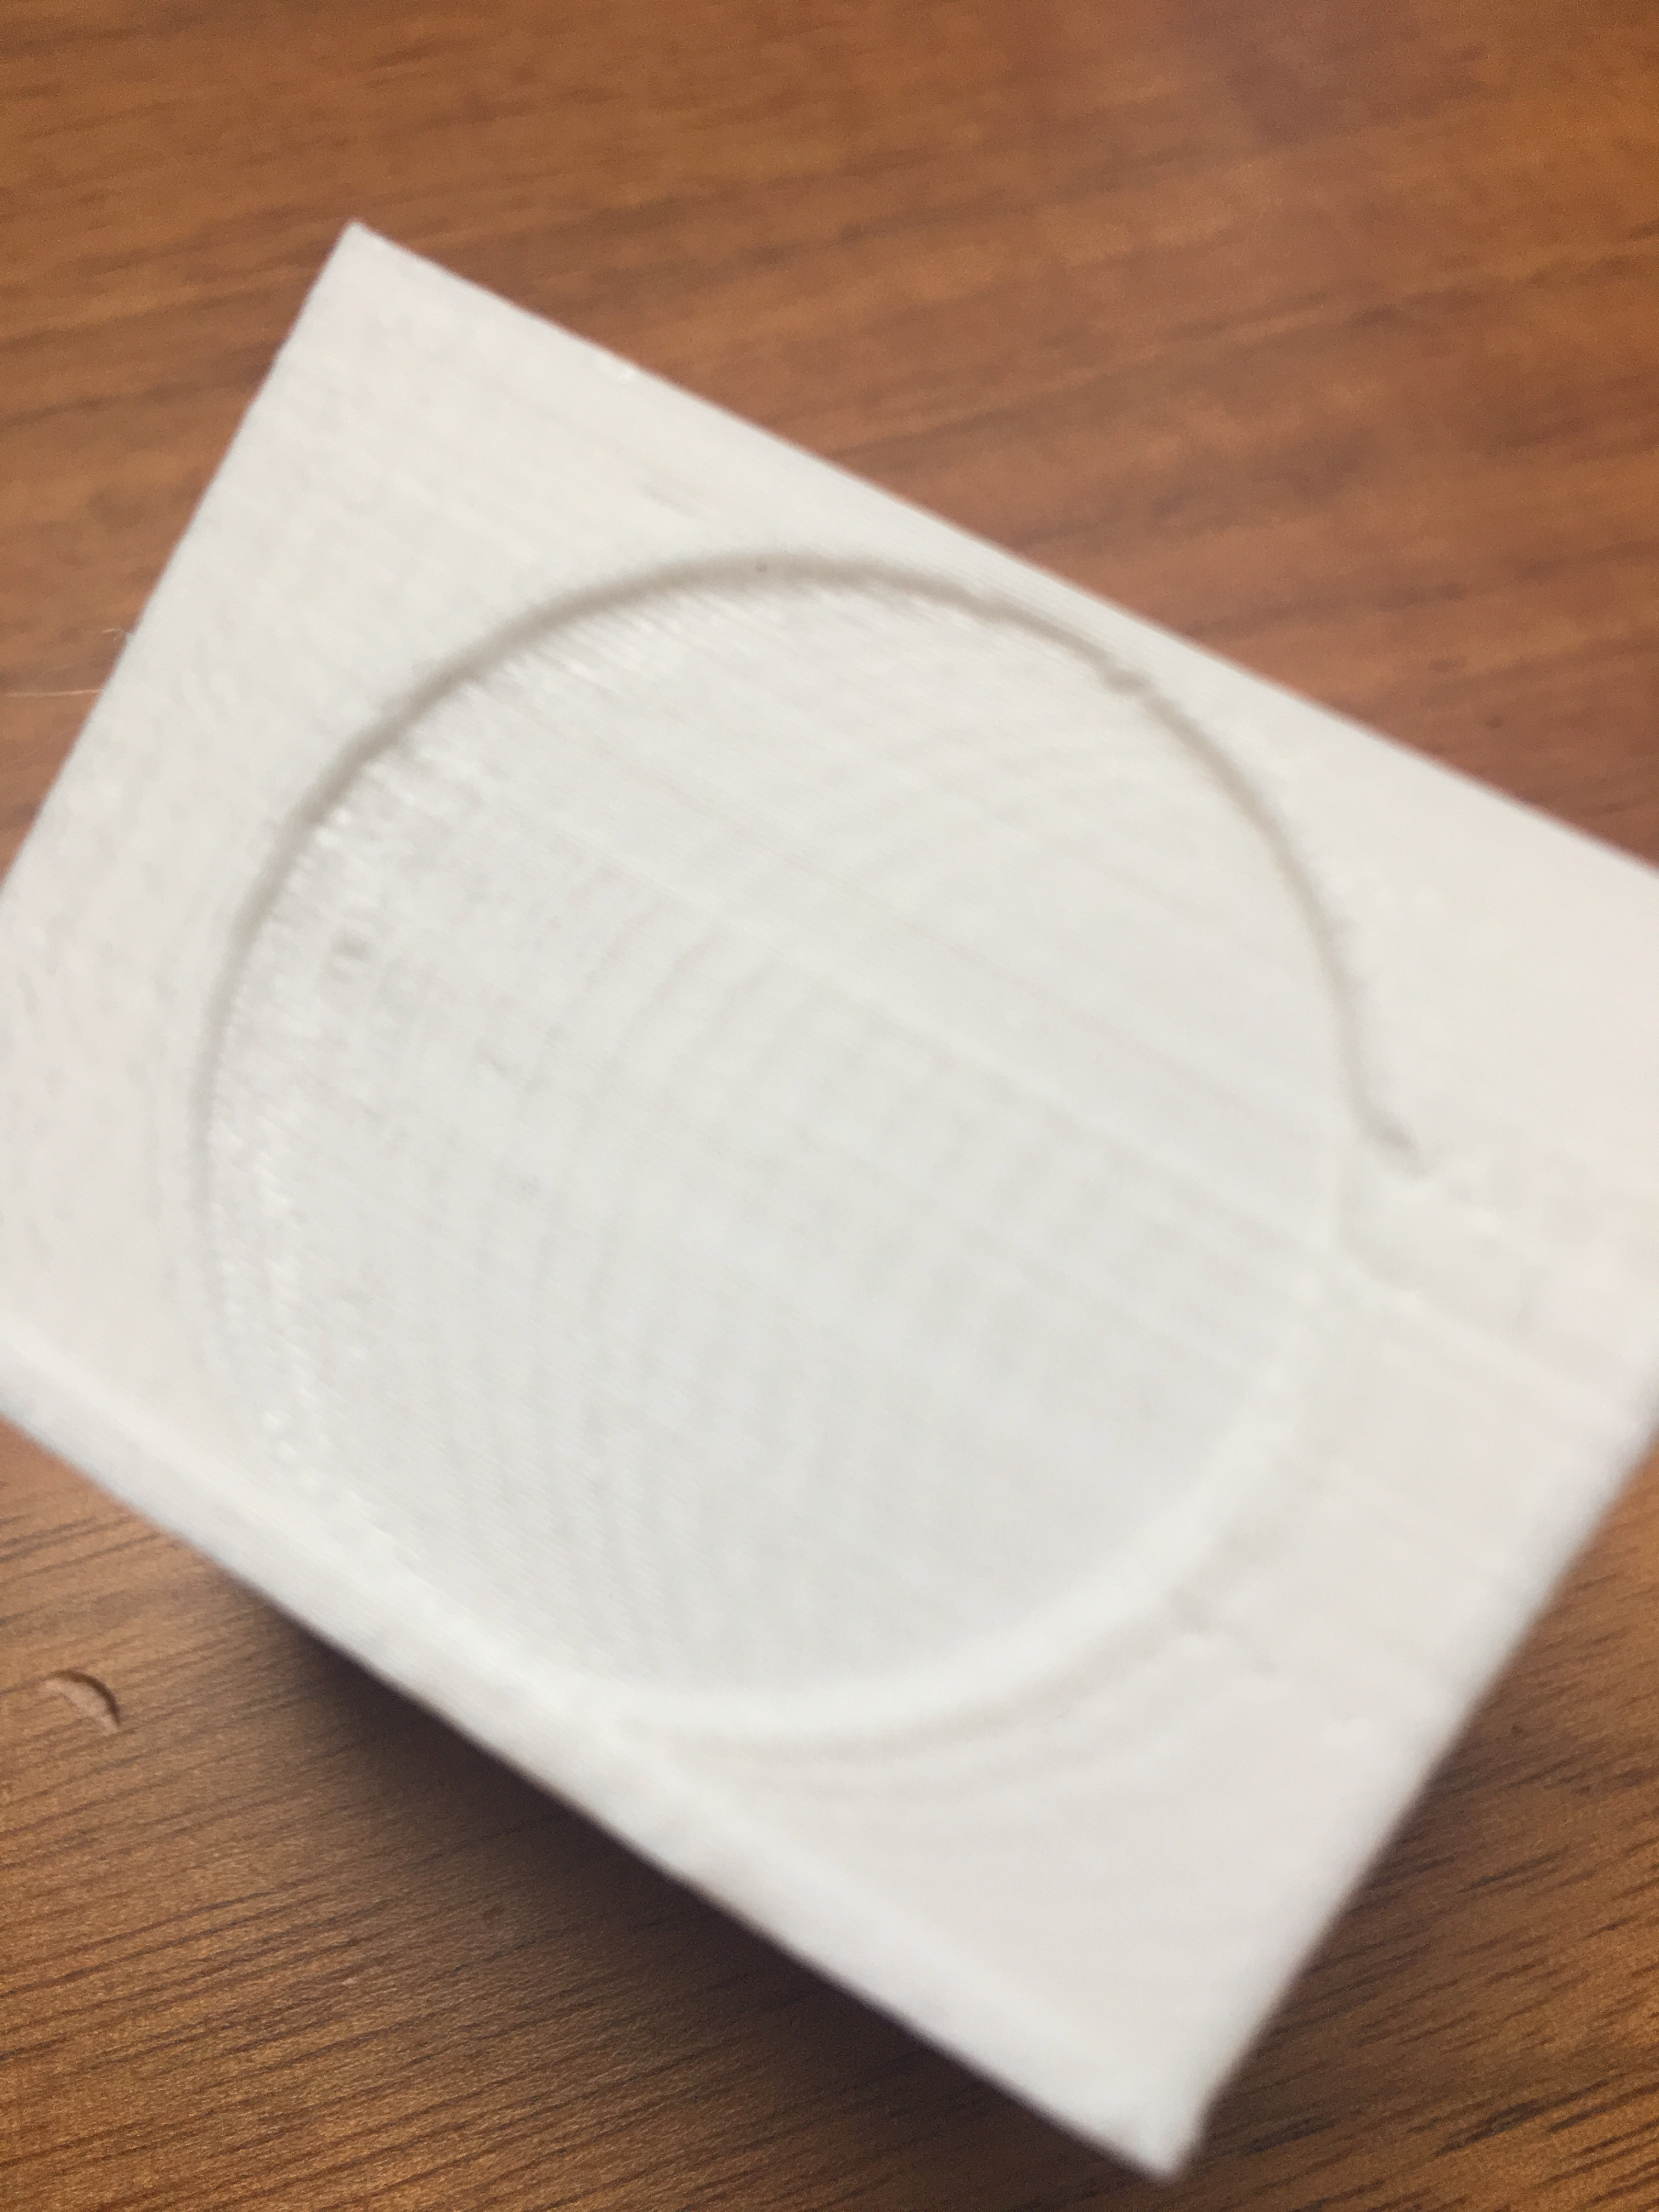3dpripples: (406, 744, 1100, 1575), (816, 1622, 1293, 1869)
3dpunderextrusion: (1223, 1047, 1528, 1385)
